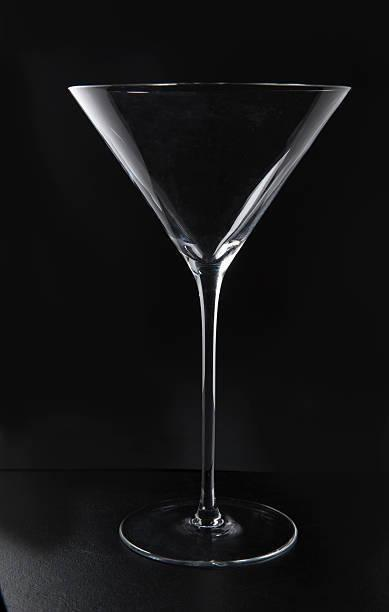glass-wine: (64, 78, 355, 569)
